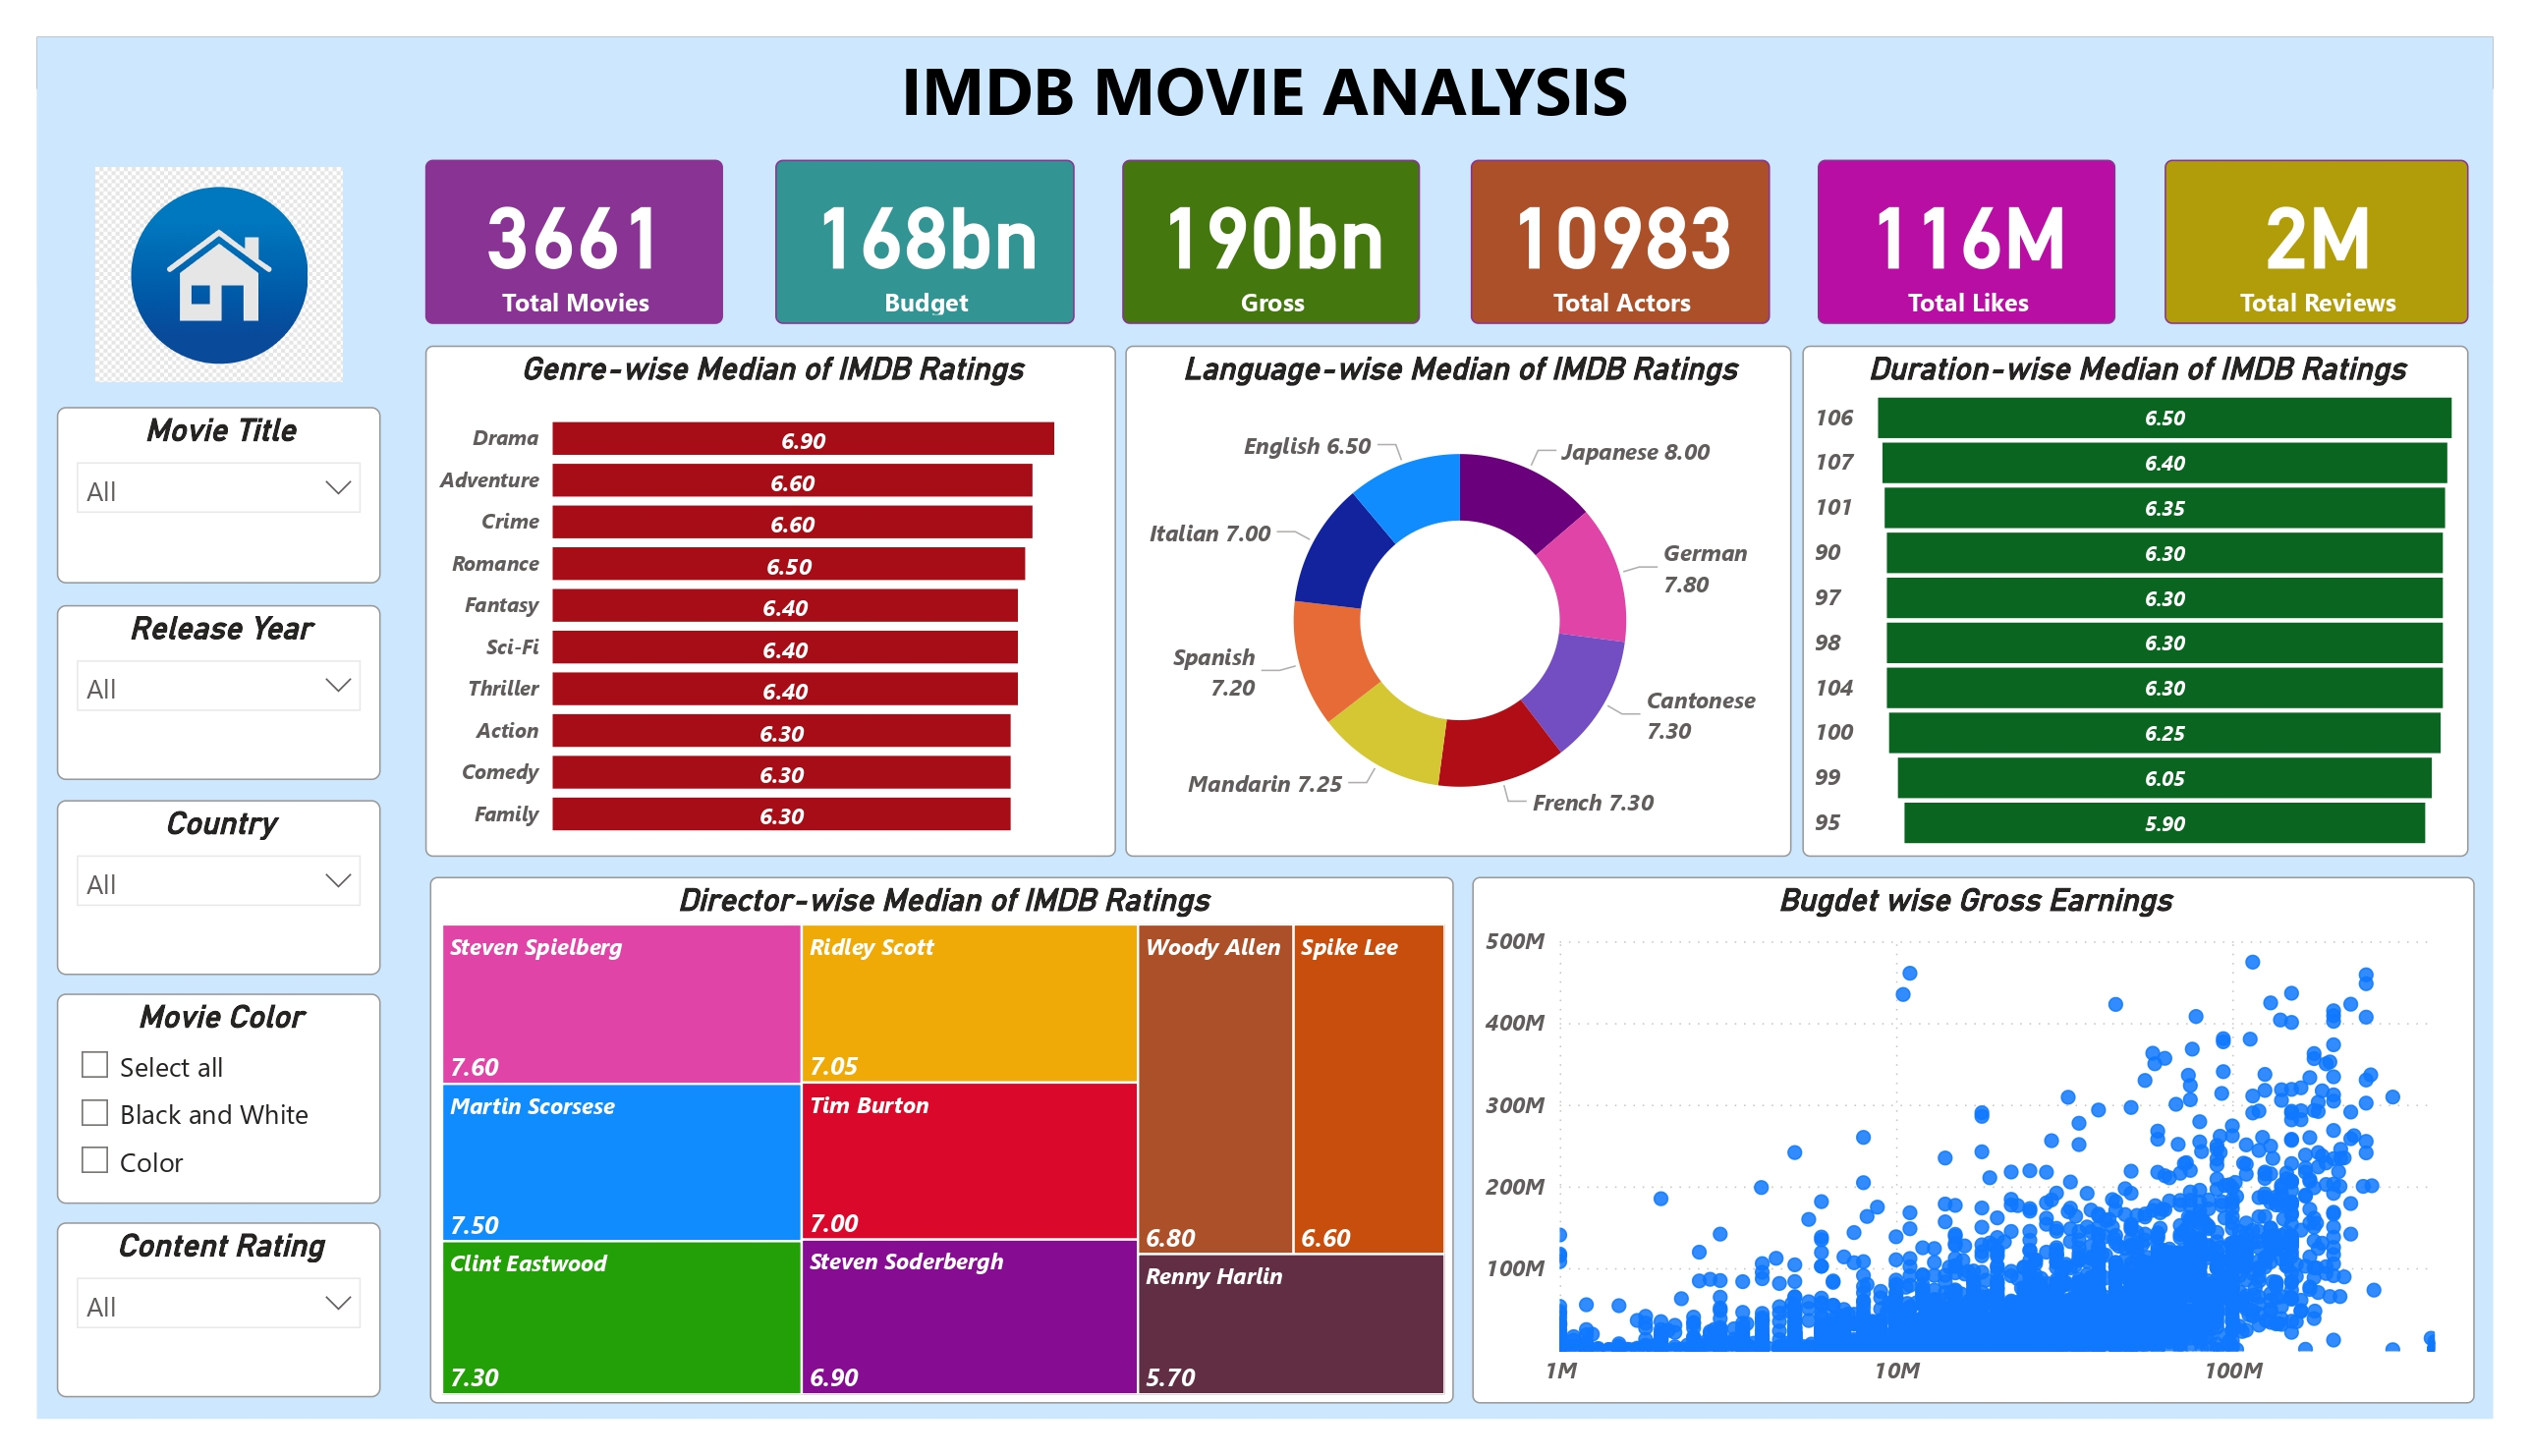

Layout of this report page (visuals, bound fields, positions):
{"tool":"powerbi","page":{"name":"Median","canvas":[1600,900],"ordinal":1},"visuals":[{"type":"clusteredBarChart","title":"Genre-wise Median of IMDB Ratings","fields":{"Category":["genres.genres"],"Y":["genres.imdb_score"]},"box":[252.9,201.4,450,332.9],"z":0},{"type":"funnel","title":"Duration-wise Median of IMDB Ratings","fields":{"Category":["Movies.duration"],"Y":["Movies.imdb_score"]},"box":[1149.9,200.8,434.3,332.9],"z":1000},{"type":"donutChart","title":"Language-wise Median of IMDB Ratings","fields":{"Category":["Movies.language"],"Y":["Movies.imdb_score"]},"box":[708.6,201.4,434.3,332.9],"z":2000},{"type":"treemap","title":"Director-wise Median of IMDB Ratings","fields":{"Values":["Cast.imdb_score"],"Group":["Cast.director_name"]},"box":[256.1,547.1,667.1,342.9],"z":3000},{"type":"scatterChart","title":"Bugdet wise Gross Earnings","fields":{"X":["Movies.budget"],"Y":["Movies.gross"]},"box":[934.7,547.1,652.9,342.9],"z":4000},{"type":"card","fields":{"Values":["Movies.movie_title"]},"box":[252.9,80,194.3,107.1],"z":5000},{"type":"card","fields":{"Values":["Movies.budget"]},"box":[481.4,80,194.3,107.1],"z":6000},{"type":"card","fields":{"Values":["Movies.gross"]},"box":[707.1,80,194.3,107.1],"z":7000},{"type":"card","fields":{"Values":["Cast.Total_actors"]},"box":[934.3,80,194.3,107.1],"z":8000},{"type":"card","fields":{"Values":["Likes.total_likes"]},"box":[1160,80,194.3,107.1],"z":9000},{"type":"card","fields":{"Values":["Reviews.total_reviews"]},"box":[1385.7,80,198.6,107.1],"z":10000},{"type":"slicer","title":"Release Year","fields":{"Values":["IMDB_Movies.title_year"]},"box":[12.9,370,211.4,114.3],"z":11000},{"type":"slicer","title":"Movie Color","fields":{"Values":["Movies.color"]},"box":[12.9,622.9,211.4,137.1],"z":12000},{"type":"slicer","title":"Content Rating","fields":{"Values":["Movies.content_rating"]},"box":[12.9,771.8,211.4,114.3],"z":13000},{"type":"slicer","title":"Country","fields":{"Values":["Movies.country"]},"box":[12.9,497.1,211.4,114.3],"z":14000},{"type":"slicer","title":"Movie Title","fields":{"Values":["Cast.movie_title"]},"box":[12.9,241.4,211.4,114.3],"z":15000},{"type":"image","box":[12.9,80,211.4,150],"z":16000},{"type":"textbox","box":[0,0,1600,70],"z":17000}]}

Visuals, with their boxes on the page's 1600x900 design canvas (x1, y1, x2, y2). These are canvas units, not pixel positions in the 2530x1456 screenshot, which may show the page scaled, cropped or inside an application window:
"Genre-wise Median of IMDB Ratings" clusteredBarChart: region(253, 201, 703, 534)
"Duration-wise Median of IMDB Ratings" funnel: region(1150, 201, 1584, 534)
"Language-wise Median of IMDB Ratings" donutChart: region(709, 201, 1143, 534)
"Director-wise Median of IMDB Ratings" treemap: region(256, 547, 923, 890)
"Bugdet wise Gross Earnings" scatterChart: region(935, 547, 1588, 890)
card - Movies.movie_title: region(253, 80, 447, 187)
card - Movies.budget: region(481, 80, 676, 187)
card - Movies.gross: region(707, 80, 901, 187)
card - Cast.Total_actors: region(934, 80, 1129, 187)
card - Likes.total_likes: region(1160, 80, 1354, 187)
card - Reviews.total_reviews: region(1386, 80, 1584, 187)
"Release Year" slicer: region(13, 370, 224, 484)
"Movie Color" slicer: region(13, 623, 224, 760)
"Content Rating" slicer: region(13, 772, 224, 886)
"Country" slicer: region(13, 497, 224, 611)
"Movie Title" slicer: region(13, 241, 224, 356)
image: region(13, 80, 224, 230)
textbox: region(0, 0, 1600, 70)
